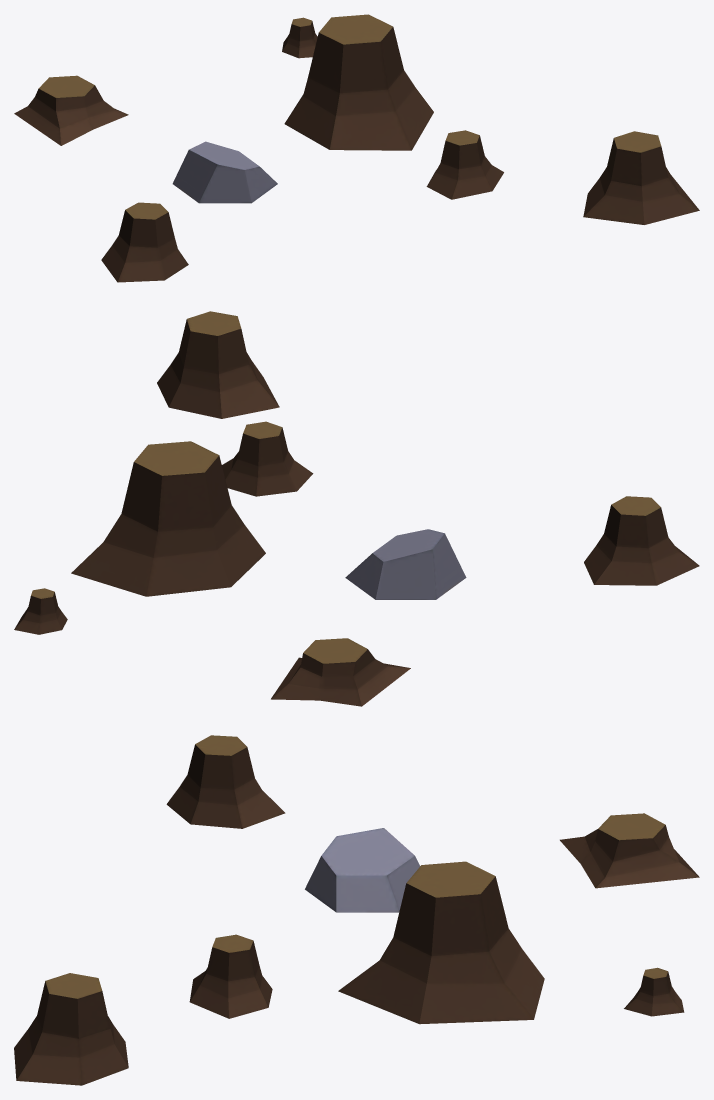
The model's file is tile_wood_1_ruin.fbx.
The picture shows the model from 3 angles, top to bottom: view 1: azimuth 30°, elevation 25°; view 2: azimuth 150°, elevation 25°; view 3: azimuth 270°, elevation 25°; orthographic projection. The views are drawn at different scales.
Visible parts, largest first — view 1: wood_1_ruin; view 2: wood_1_ruin; view 3: wood_1_ruin.
Part boxes in pixels (bbox=[...]): wood_1_ruin: bbox=[14, 14, 699, 282]; wood_1_ruin: bbox=[14, 311, 699, 706]; wood_1_ruin: bbox=[14, 735, 699, 1085].
Bounding box in the file's own units: 0.0303 × 0.00498 × 0.029.
